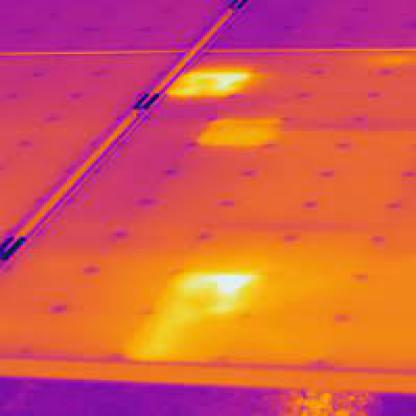Defects: (178, 270, 256, 308), (209, 115, 274, 149), (178, 69, 244, 100)
